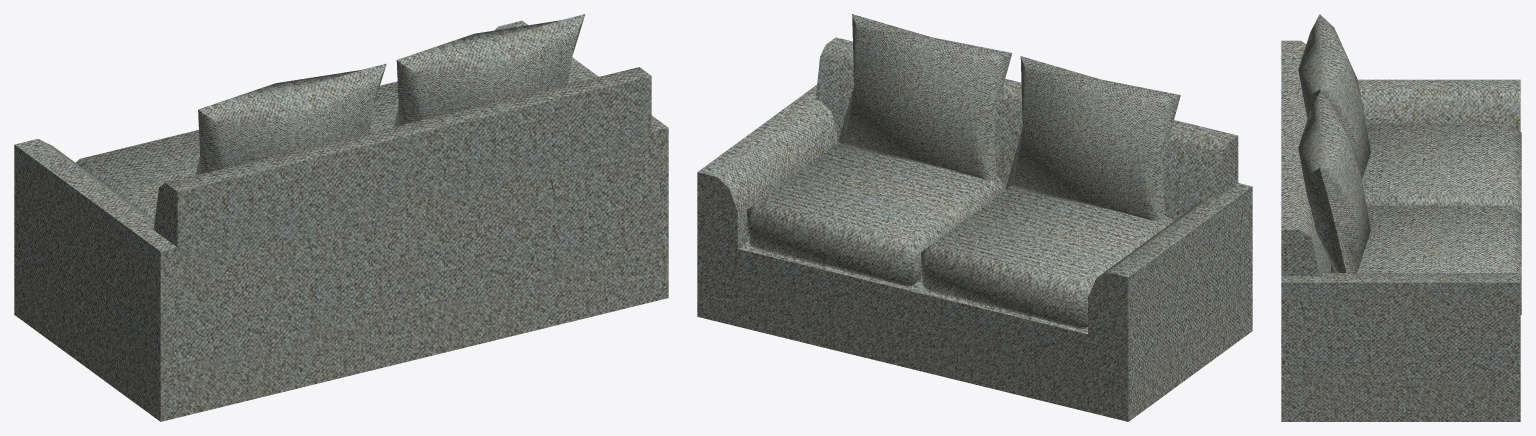
The model's file is Armchair_04.glb.
3 views of the same model, side by side, from view 1: azimuth 30°, elevation 25°; view 2: azimuth 150°, elevation 25°; view 3: azimuth 270°, elevation 25° (orthographic). The views are drawn at different scales.
Visible parts, largest first — view 1: Armchair_04; view 2: Armchair_04; view 3: Armchair_04.
Part boxes in pixels (box(x1,y1,x2,y2)): Armchair_04: box(14, 14, 668, 421); Armchair_04: box(697, 14, 1252, 421); Armchair_04: box(1281, 14, 1521, 421).
Size of the model in its own units: 2 by 1.06 by 1.
1 material, 1 textured.
